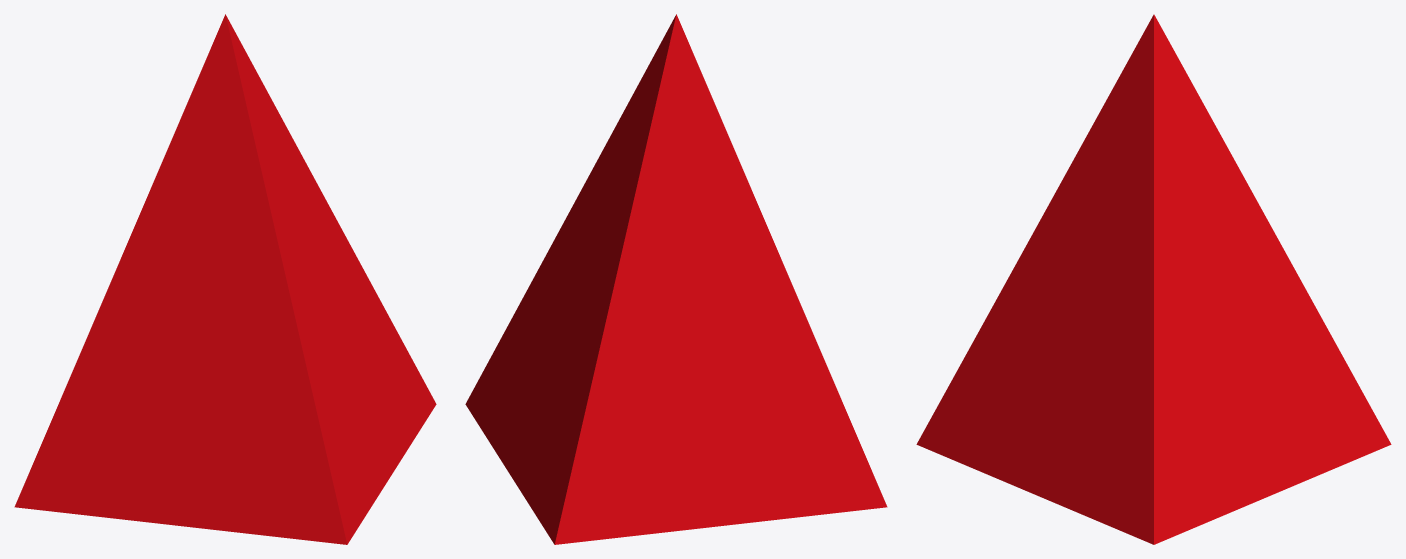
The model's file is cone4-red.glb.
3 renders of one model, left to right at view 1: azimuth 30°, elevation 25°; view 2: azimuth 150°, elevation 25°; view 3: azimuth 270°, elevation 25°, orthographic. The views are drawn at different scales.
Visible parts, largest first — view 1: 锥体; view 2: 锥体; view 3: 锥体.
Boxes of the visible parts, x1=… form: 锥体: x1=14, y1=14, x2=436, y2=544; 锥体: x1=465, y1=14, x2=887, y2=544; 锥体: x1=916, y1=14, x2=1391, y2=544.
Bounding box in the file's own units: 2 × 2 × 2.
